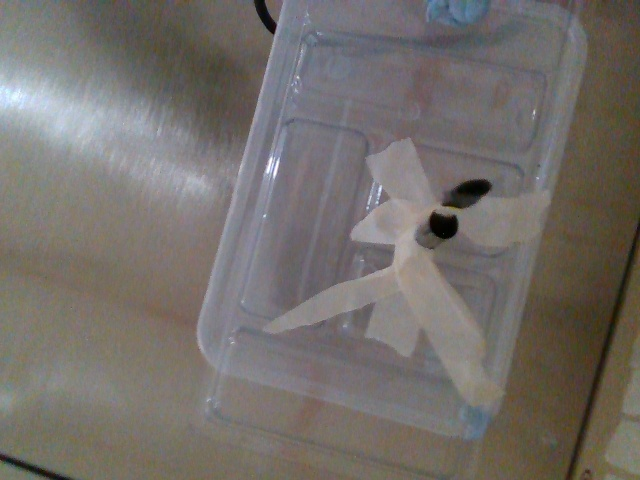test_strip: (433, 179, 488, 217)
